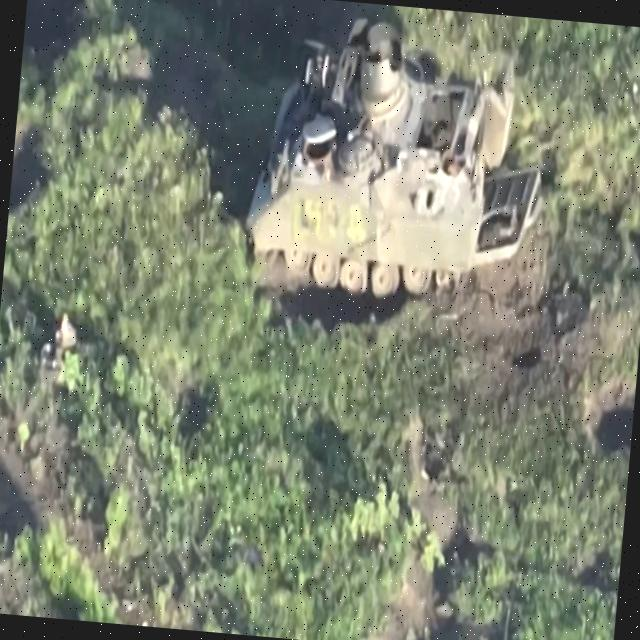APC: (235, 5, 556, 313)
